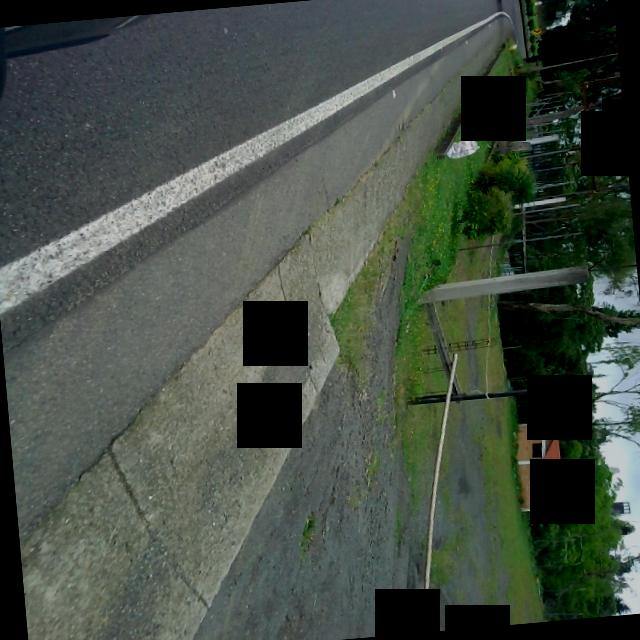DITCH: (0, 8, 570, 640)
